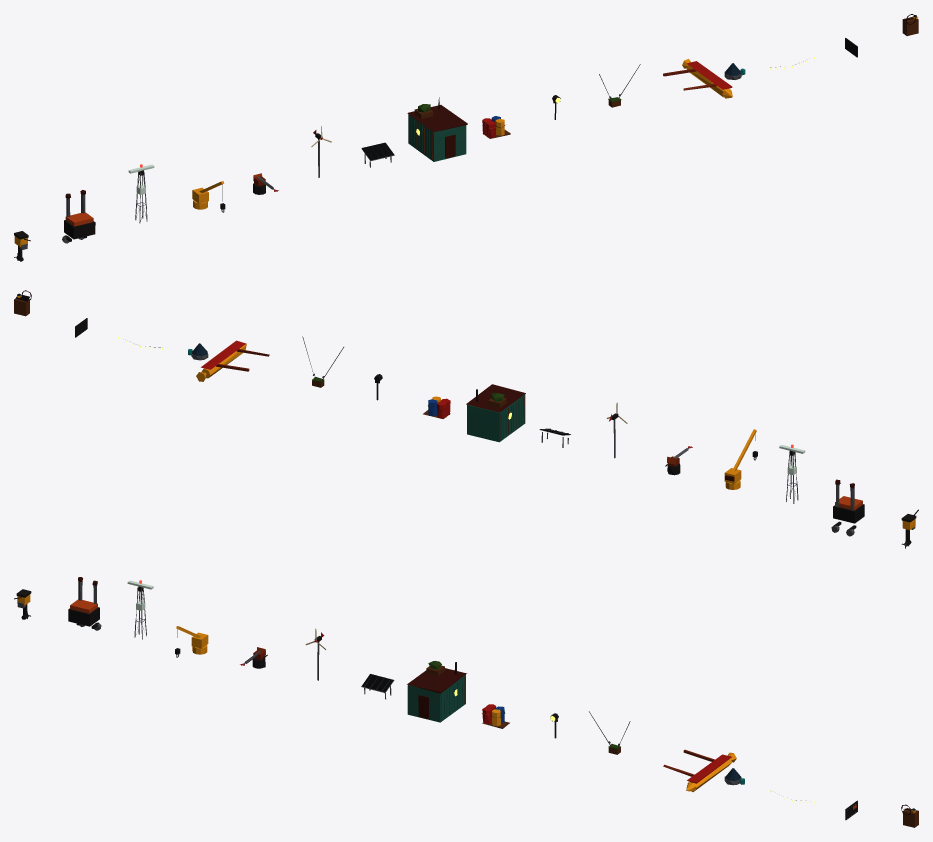
The model's file is tb_boat_kit.three-web-toon.lod50.glb.
3 views of the same model, one above another, from view 1: azimuth 30°, elevation 25°; view 2: azimuth 150°, elevation 25°; view 3: azimuth 330°, elevation 25° (orthographic).
Parts seen in each view (by area): view 1: cabin_container_lod, engine_twin_lod, outrigger_lod; view 2: cabin_container_lod, engine_twin_lod, outrigger_lod, salvage_crane_lod; view 3: cabin_container_lod, engine_twin_lod, outrigger_lod.
Part boxes in pixels (left/top/right/bottom): cabin_container_lod: left=407, top=97, right=467, bottom=161; engine_twin_lod: left=62, top=190, right=95, bottom=243; outrigger_lod: left=663, top=59, right=732, bottom=98; cabin_container_lod: left=466, top=384, right=525, bottom=442; engine_twin_lod: left=831, top=479, right=864, bottom=536; outrigger_lod: left=196, top=340, right=269, bottom=381; salvage_crane_lod: left=724, top=429, right=757, bottom=489; cabin_container_lod: left=407, top=661, right=466, bottom=722; engine_twin_lod: left=68, top=577, right=101, bottom=630; outrigger_lod: left=663, top=749, right=736, bottom=791.
Size of the model in its own units: 60.69 by 4.57 by 5.4.
